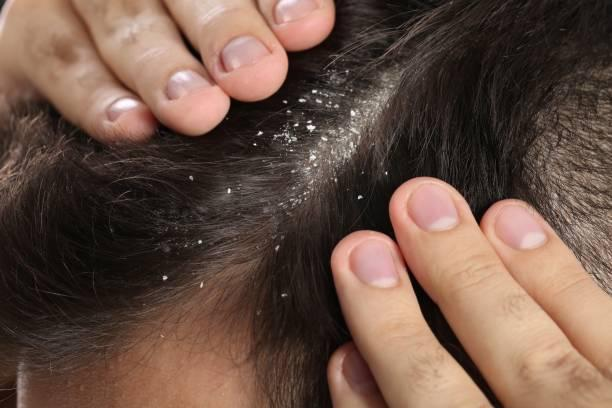dandruff: (252, 105, 386, 165), (184, 161, 249, 201), (323, 176, 389, 212), (135, 228, 232, 252), (311, 58, 369, 86), (245, 237, 304, 260)
